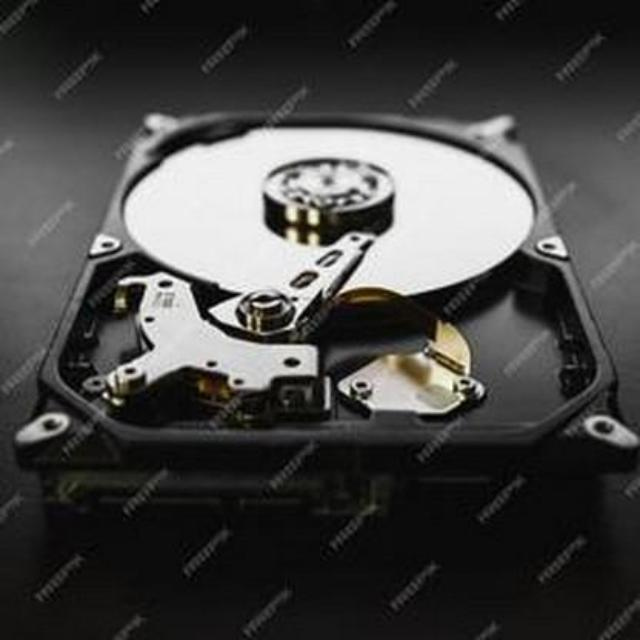DISK: (16, 86, 636, 528)
